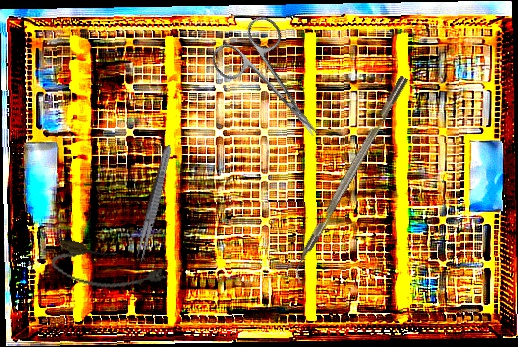Cannula: (49, 237, 170, 302)
Chopper: (285, 75, 419, 285)
Dressing Forceps: (133, 143, 175, 265)
Iris Scissors: (205, 10, 344, 160)
